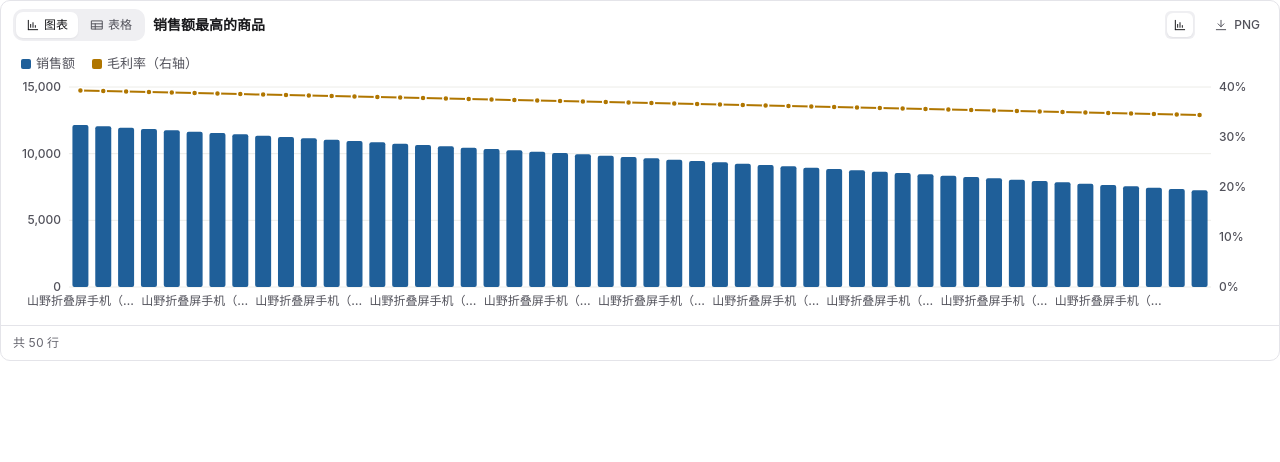
Test: ResultCard › says nothing about a new query when the kept rows are the whole result
What coordinates should you click on to do the following:
click the button "表格"
I would click on:
 (111, 25)
Its box is top-left (80, 12), bottom-right (142, 38).
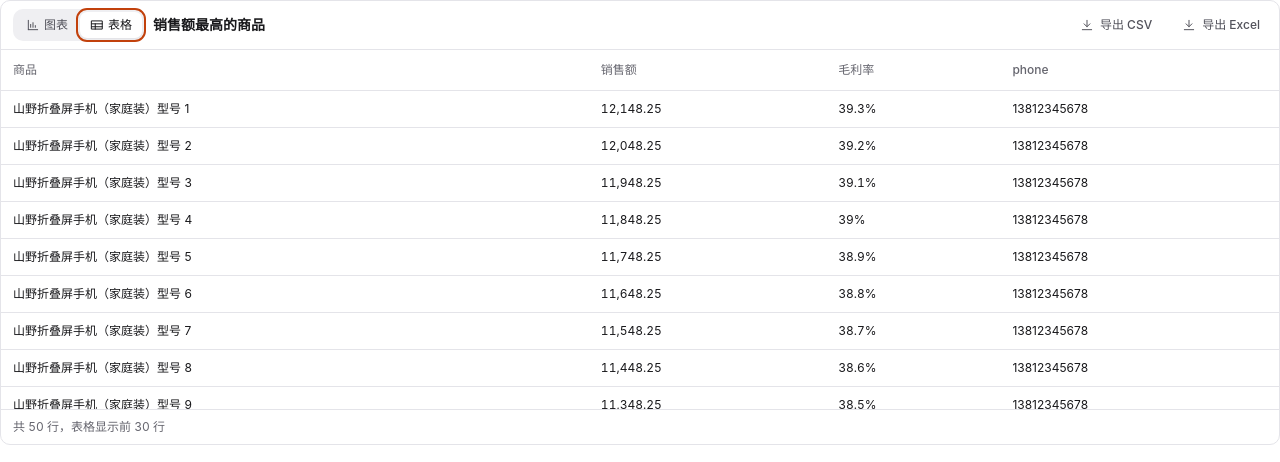
Check: the text "共 50 行，表格显示前 30 行" is shown, box top-left (13, 418), bottom-right (165, 436)
